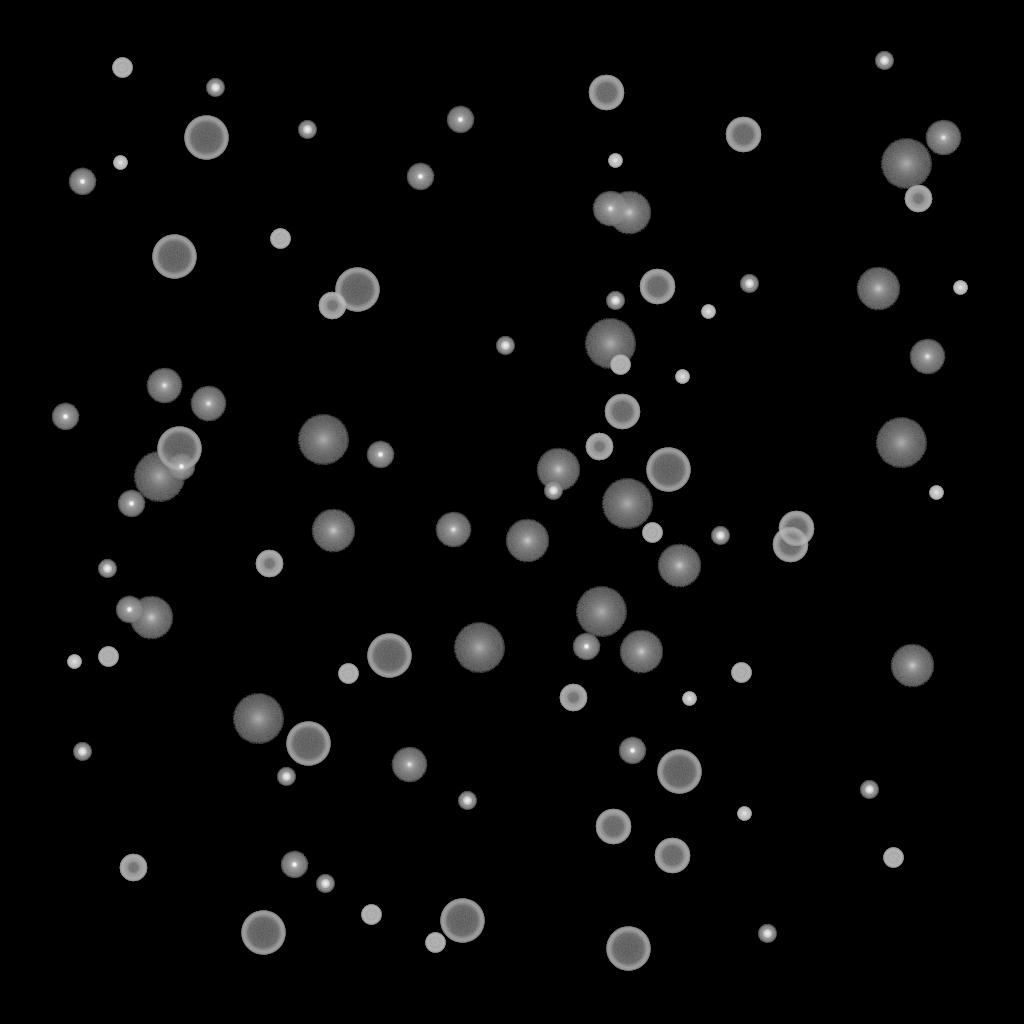depth:-10: (572, 633, 600, 661), (51, 403, 79, 431), (115, 596, 143, 624), (618, 737, 646, 765), (280, 851, 308, 879), (167, 453, 195, 481), (406, 163, 434, 191), (117, 490, 145, 518), (68, 168, 96, 196), (366, 441, 394, 469), (446, 106, 474, 134)
depth:-20: (458, 792, 476, 810), (860, 781, 878, 799), (98, 560, 116, 578), (277, 768, 295, 786), (758, 925, 776, 943), (206, 79, 224, 97), (316, 875, 334, 893), (740, 275, 758, 293), (544, 482, 562, 500), (711, 527, 729, 545), (496, 337, 514, 355), (73, 743, 91, 761), (298, 121, 316, 139), (606, 292, 624, 310), (875, 52, 893, 70)
depth:-30: (737, 807, 751, 821), (67, 655, 81, 669), (953, 281, 967, 295), (701, 305, 715, 319), (682, 692, 696, 706), (608, 154, 622, 168), (929, 486, 943, 500), (675, 370, 689, 384), (113, 156, 127, 170)
depth:-40: (270, 229, 290, 249), (361, 905, 381, 925), (338, 664, 358, 684), (642, 523, 662, 543), (98, 647, 118, 667), (610, 355, 630, 375), (112, 58, 132, 78), (425, 933, 445, 953), (883, 848, 903, 868), (731, 663, 751, 683)
depth:-50: (318, 292, 346, 320), (119, 854, 147, 882), (255, 550, 283, 578), (904, 185, 932, 213), (585, 433, 613, 461), (559, 684, 587, 712)
depth:-60: (654, 838, 690, 874), (604, 394, 640, 430), (778, 511, 814, 547), (772, 527, 808, 563), (595, 809, 631, 845), (639, 269, 675, 305), (588, 75, 624, 111), (725, 117, 761, 153)
depth:-70: (440, 899, 484, 943), (335, 268, 379, 312), (606, 927, 650, 971), (646, 448, 690, 492), (157, 427, 201, 471), (367, 634, 411, 678), (152, 235, 196, 279), (657, 750, 701, 794), (184, 116, 228, 160), (286, 722, 330, 766), (241, 911, 285, 955)
depth:0: (435, 512, 471, 548), (909, 339, 945, 375), (391, 747, 427, 783), (925, 120, 961, 156), (190, 386, 226, 422), (592, 191, 628, 227), (146, 368, 182, 404)
depth:10: (619, 630, 663, 674), (856, 267, 900, 311), (505, 519, 549, 563), (607, 191, 651, 235), (311, 509, 355, 553), (536, 448, 580, 492), (890, 644, 934, 688), (657, 544, 701, 588), (129, 596, 173, 640)
depth:20: (232, 694, 284, 744), (880, 139, 932, 189), (584, 319, 636, 369), (875, 418, 927, 468), (453, 623, 505, 673), (601, 479, 653, 529), (297, 415, 349, 465), (575, 587, 627, 637), (133, 452, 185, 502)
